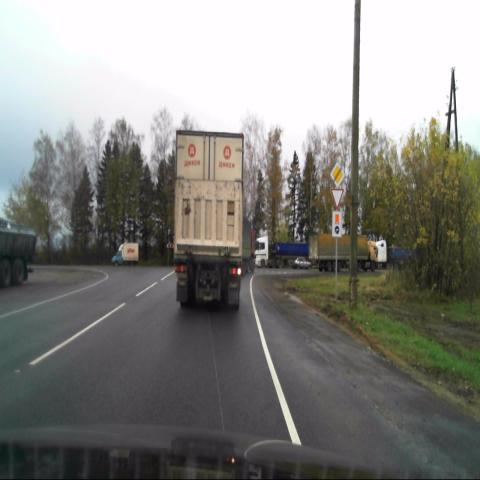2_2: (330, 163, 344, 188)
4_8_3: (332, 211, 341, 236)
